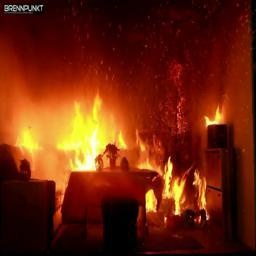fire: (3, 74, 225, 226)
